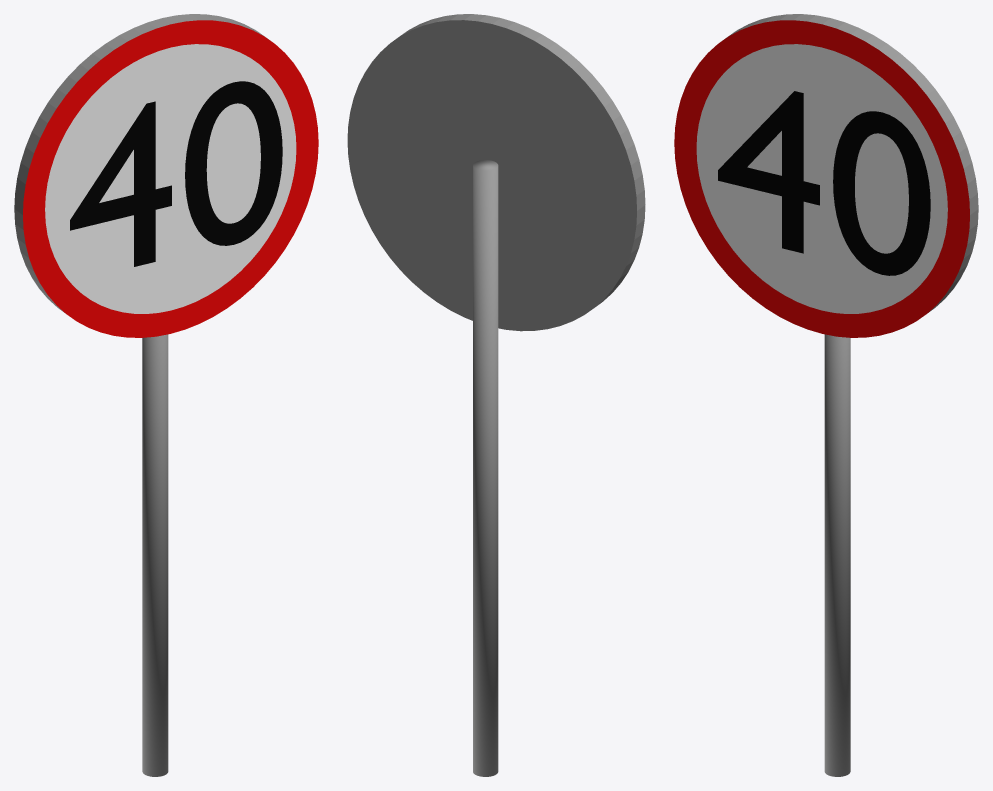
File: speed_limit_sign_40.dae
3 views of the same model, side by side, from view 1: azimuth 30°, elevation 25°; view 2: azimuth 150°, elevation 25°; view 3: azimuth 330°, elevation 25° (orthographic). The views are drawn at different scales.
Parts seen in each view (by area): view 1: Cylinder.001, Cylinder; view 2: Cylinder.001, Cylinder; view 3: Cylinder.001, Cylinder.
Boxes of the visible parts, x1,y1,x2,y2 form: Cylinder.001: [14, 14, 318, 337]; Cylinder: [142, 334, 168, 776]; Cylinder.001: [347, 14, 645, 331]; Cylinder: [473, 160, 498, 776]; Cylinder.001: [674, 14, 978, 337]; Cylinder: [824, 334, 850, 776].
Size of the model in its own units: 1 by 0.138 by 2.45.
